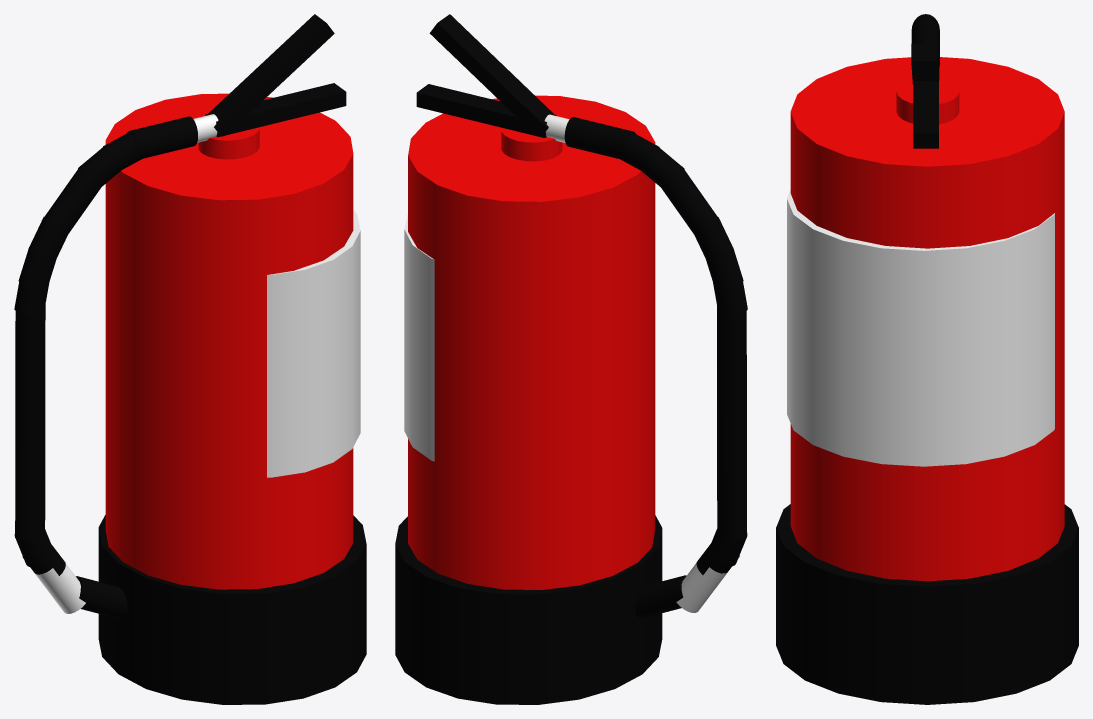
The model's file is FireExtinguisherModel.fbx.
3 renders of one model, left to right at view 1: azimuth 30°, elevation 25°; view 2: azimuth 150°, elevation 25°; view 3: azimuth 270°, elevation 25°, orthographic. The views are drawn at different scales.
Parts seen in each view (by area): view 1: Cylinder, Cylinder_1, Cylinder__15_, Cylinder__10_, Cube_1, Cube, Cylinder__14_, Cylinder_2, Cylinder__13_, Cylinder__7_, Cylinder__1_, Cylinder__8_ (+8 smaller); view 2: Cylinder, Cylinder_1, Cylinder__10_, Cylinder__15_, Cube_1, Cube, Cylinder_2, Cylinder__14_, Cylinder__13_, Cylinder__7_, Cylinder__1_, Cylinder__8_ (+8 smaller); view 3: Cylinder, Cylinder__15_, Cylinder_1, Cube, Cylinder_2, Cube_1.
Boxes of the visible parts, x1,y1,x2,y2 form: Cylinder: [105, 93, 353, 589]; Cylinder_1: [98, 515, 366, 704]; Cylinder__15_: [267, 210, 360, 477]; Cylinder__10_: [15, 304, 45, 541]; Cube_1: [208, 14, 334, 136]; Cube: [205, 83, 346, 137]; Cylinder__14_: [76, 576, 127, 619]; Cylinder_2: [198, 127, 259, 159]; Cylinder__13_: [35, 563, 85, 613]; Cylinder__7_: [28, 217, 67, 259]; Cylinder__1_: [159, 116, 197, 153]; Cylinder__8_: [18, 247, 56, 289]; Cylinder: [408, 95, 655, 589]; Cylinder_1: [395, 515, 662, 704]; Cylinder__10_: [717, 305, 746, 541]; Cylinder__15_: [404, 214, 434, 461]; Cube_1: [429, 14, 554, 137]; Cube: [416, 84, 556, 137]; Cylinder_2: [501, 128, 562, 161]; Cylinder__14_: [635, 575, 686, 618]; Cylinder__13_: [676, 563, 726, 612]; Cylinder__7_: [694, 217, 733, 259]; Cylinder__1_: [564, 117, 603, 153]; Cylinder__8_: [706, 247, 743, 289]; Cylinder: [790, 57, 1064, 581]; Cylinder__15_: [787, 190, 1054, 466]; Cylinder_1: [776, 504, 1078, 704]; Cube: [913, 79, 938, 148]; Cylinder_2: [896, 78, 959, 124]; Cube_1: [911, 43, 939, 85].
Size of the model in its own units: 61.82 by 108 by 45.93.
